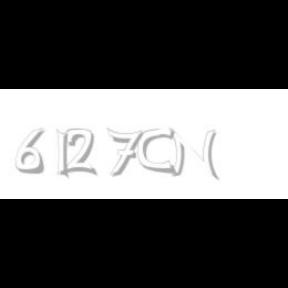2: (62, 128, 96, 176)
6: (16, 128, 44, 176)
7: (106, 128, 144, 178)
C: (138, 128, 174, 174)
I: (56, 128, 70, 180)
N: (168, 128, 217, 180)
